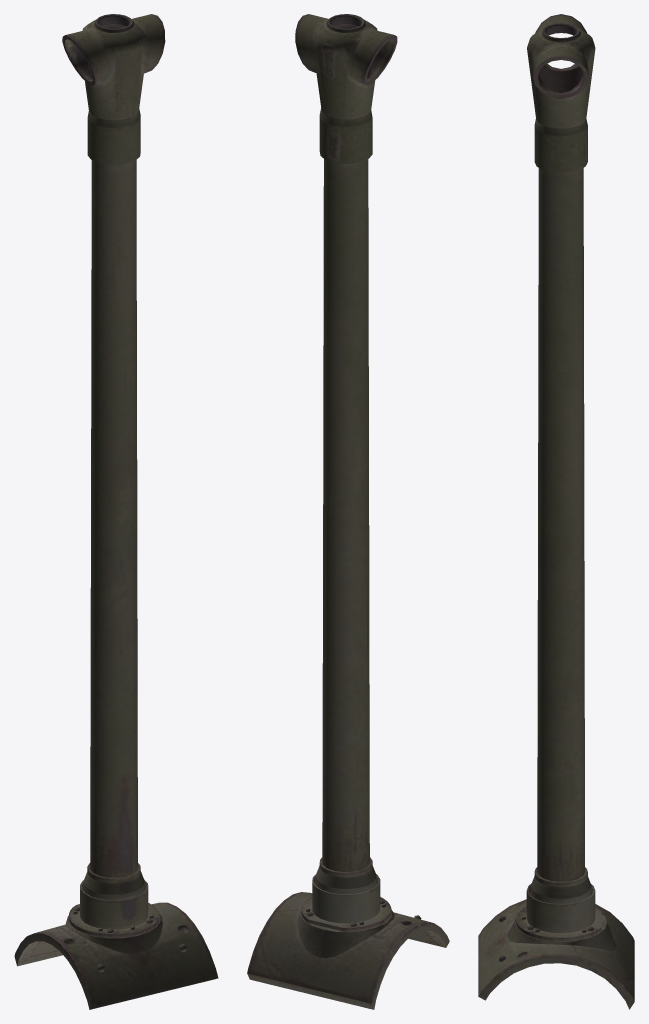
Rendered from Gun_05.glb.
The picture shows the model from 3 angles, left to right: view 1: azimuth 30°, elevation 25°; view 2: azimuth 150°, elevation 25°; view 3: azimuth 270°, elevation 25°; orthographic projection.
Parts seen in each view (by area): view 1: set_0_group_0; view 2: set_0_group_0; view 3: set_0_group_0.
Boxes of the visible parts, x1,y1,x2,y2 form: set_0_group_0: (14, 14, 218, 1009); set_0_group_0: (247, 14, 449, 1009); set_0_group_0: (478, 14, 634, 1009).
Bounding box in the file's own units: 0.607 × 4.42 × 0.6609.
Materials: 1 (1 with a texture image).
